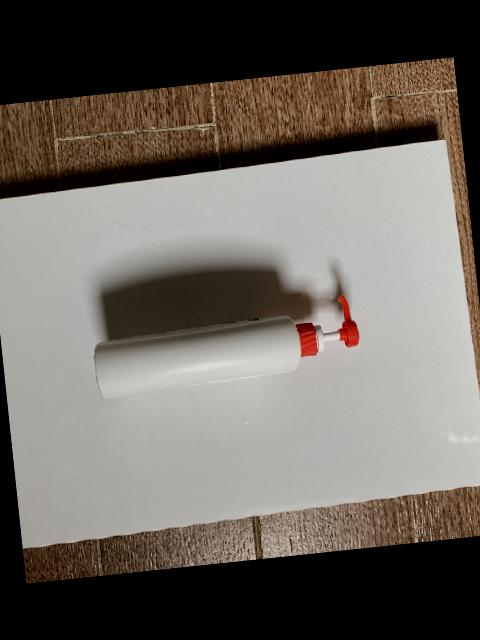life-buoy: (93, 293, 362, 398)
